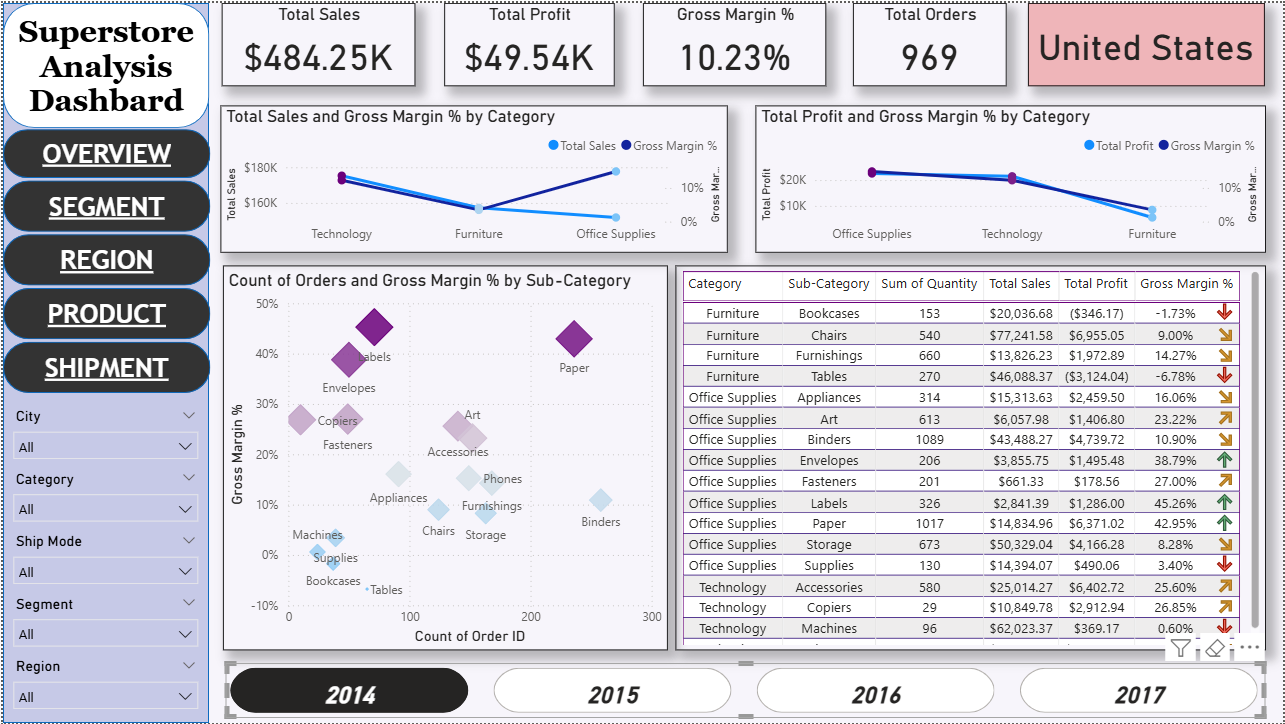

Layout of this report page (visuals, bound fields, positions):
{"tool":"powerbi","page":{"name":"Segment Details","canvas":[1280,720],"ordinal":1},"visuals":[{"type":"card","title":"Total Orders","fields":{"Values":["Count(Sample - Superstore_cleaned.Order ID)"]},"box":[850,0,153.3,83.3],"z":3},{"type":"shape","box":[0,0,206,720],"z":4},{"type":"shape","box":[0,0,206.2,125],"z":5},{"type":"lineChart","fields":{"Category":["Sample - Superstore_cleaned.Category"],"Y":["Key Measurers.Total Sales"],"Y2":["Key Measurers.Gross Margin %"]},"box":[217.5,102.5,507.5,147.5],"z":6},{"type":"lineChart","fields":{"Category":["Sample - Superstore_cleaned.Category"],"Y":["Key Measurers.Total Profit"],"Y2":["Key Measurers.Gross Margin %"]},"box":[752.5,102.5,510,147.5],"z":7},{"type":"card","fields":{"Values":["Min(Sample - Superstore_cleaned.Country)"]},"box":[1025,0,236.7,83.3],"z":12},{"type":"scatterChart","title":"Count of Orders and Gross Margin % by Sub-Category","fields":{"Y":["Key Measurers.Gross Margin %"],"X":["Sample - Superstore_cleaned.Order ID"],"Size":["Key Measurers.Gross Margin %"],"Series":["Sample - Superstore_cleaned.Sub-Category"]},"box":[220,262.5,445,385],"z":13},{"type":"tableEx","fields":{"Values":["Sample - Superstore_cleaned.Category","Sample - Superstore_cleaned.Sub-Category","Sum(Sample - Superstore_cleaned.Quantity)","Key Measurers.Total Sales","Key Measurers.Total Profit","Key Measurers.Gross Margin %"]},"box":[672.5,262.5,590,385],"z":14},{"type":"advancedSlicerVisual","title":"Year as per Profit","fields":{"Values":["Sample - Superstore_cleaned.Year"]},"box":[222.5,660,1040,55],"z":20},{"type":"shape","box":[0,126.2,207.5,48.8],"z":21},{"type":"shape","box":[0,177.5,207.5,51.2],"z":22},{"type":"shape","box":[0,231.2,207.5,51.2],"z":23},{"type":"shape","box":[0,285,207.5,51.2],"z":24},{"type":"shape","box":[0,338.8,207.5,51.2],"z":25},{"type":"slicer","fields":{"Values":["Sample - Superstore_cleaned.City"]},"box":[0,400,205,62.5],"z":26},{"type":"slicer","fields":{"Values":["Sample - Superstore_cleaned.Category"]},"box":[0,462.5,205,62.5],"z":27},{"type":"slicer","fields":{"Values":["Sample - Superstore_cleaned.Ship Mode"]},"box":[0,525,205,62.5],"z":28},{"type":"slicer","fields":{"Values":["Sample - Superstore_cleaned.Segment"]},"box":[0,587.5,205,62.5],"z":29},{"type":"slicer","fields":{"Values":["Sample - Superstore_cleaned.Region"]},"box":[0,650,205,62.5],"z":30},{"type":"card","title":"Total Profit","fields":{"Values":["Key Measurers.Total Profit"]},"box":[441.7,0,170,83.3],"z":31},{"type":"card","title":"Gross Margin %","fields":{"Values":["Key Measurers.Gross Margin %"]},"box":[640,0,183.3,83.3],"z":32},{"type":"card","title":"Total Sales","fields":{"Values":["Key Measurers.Total Sales"]},"box":[218.3,0,193.3,83.3],"z":33}]}

Visuals, with their boxes in screenshot pixels (x1, y1, x2, y2), scaled from the page's 1280x720 canvas onto the 1285x724 screenshot:
"Total Orders" card: (x1=853, y1=0, x2=1007, y2=84)
shape: (x1=0, y1=0, x2=207, y2=723)
shape: (x1=0, y1=0, x2=207, y2=126)
lineChart - Sample - Superstore_cleaned.Category x Key Measurers.Total Sales: (x1=218, y1=103, x2=728, y2=251)
lineChart - Sample - Superstore_cleaned.Category x Key Measurers.Total Profit: (x1=755, y1=103, x2=1267, y2=251)
card - Min(Sample - Superstore_cleaned.Country): (x1=1029, y1=0, x2=1267, y2=84)
"Count of Orders and Gross Margin % by Sub-Category" scatterChart: (x1=221, y1=264, x2=668, y2=651)
tableEx - Sample - Superstore_cleaned.Category x Sample - Superstore_cleaned.Sub-Category: (x1=675, y1=264, x2=1267, y2=651)
"Year as per Profit" advancedSlicerVisual: (x1=223, y1=664, x2=1267, y2=719)
shape: (x1=0, y1=127, x2=208, y2=176)
shape: (x1=0, y1=178, x2=208, y2=230)
shape: (x1=0, y1=232, x2=208, y2=284)
shape: (x1=0, y1=287, x2=208, y2=338)
shape: (x1=0, y1=341, x2=208, y2=392)
slicer - Sample - Superstore_cleaned.City: (x1=0, y1=402, x2=206, y2=465)
slicer - Sample - Superstore_cleaned.Category: (x1=0, y1=465, x2=206, y2=528)
slicer - Sample - Superstore_cleaned.Ship Mode: (x1=0, y1=528, x2=206, y2=591)
slicer - Sample - Superstore_cleaned.Segment: (x1=0, y1=591, x2=206, y2=654)
slicer - Sample - Superstore_cleaned.Region: (x1=0, y1=654, x2=206, y2=716)
"Total Profit" card: (x1=443, y1=0, x2=614, y2=84)
"Gross Margin %" card: (x1=642, y1=0, x2=827, y2=84)
"Total Sales" card: (x1=219, y1=0, x2=413, y2=84)
